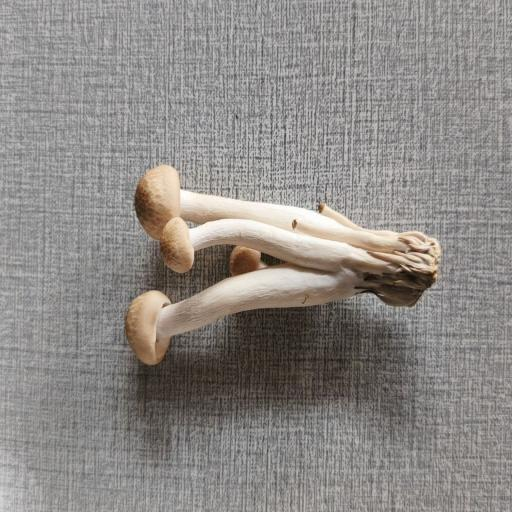Enoki Mushroom: (104, 155, 448, 380)
